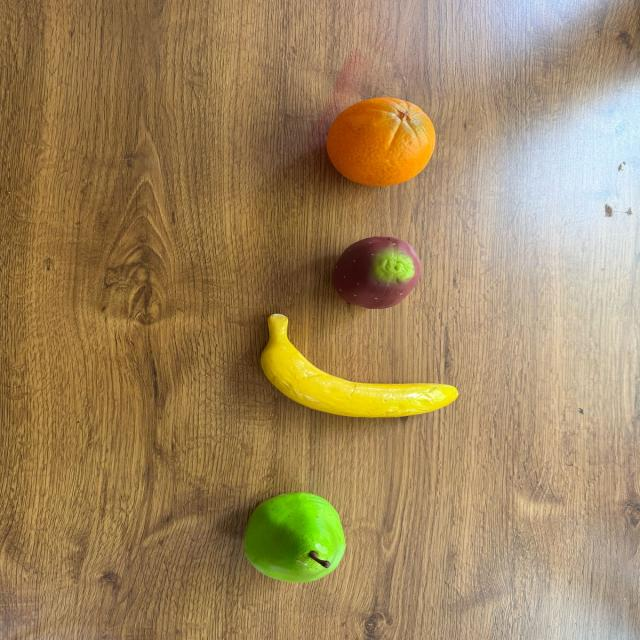banana: (260, 313, 458, 415)
orange: (324, 95, 436, 187)
pear: (242, 492, 348, 582)
tuna: (332, 236, 422, 309)
